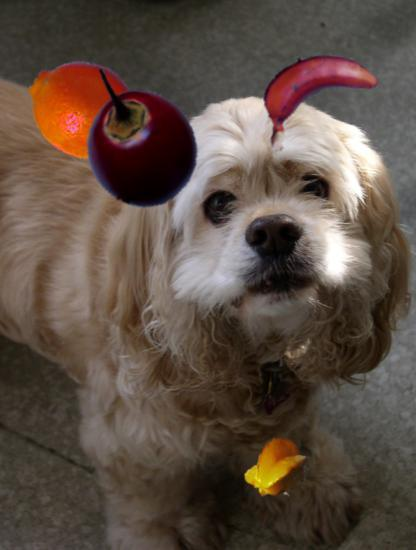Banana: (252, 29, 379, 156)
Carambula: (243, 435, 313, 505)
Tamarillo: (71, 81, 201, 211)
Tangelo: (25, 53, 137, 165)
